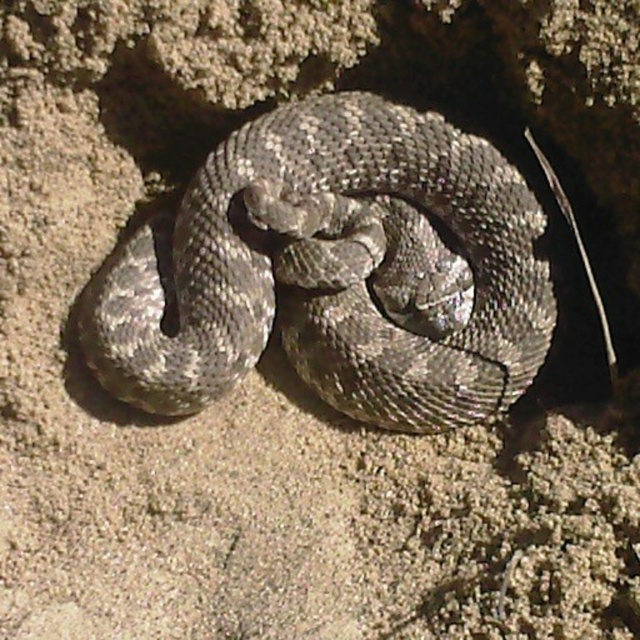Snake: (75, 88, 566, 436)
